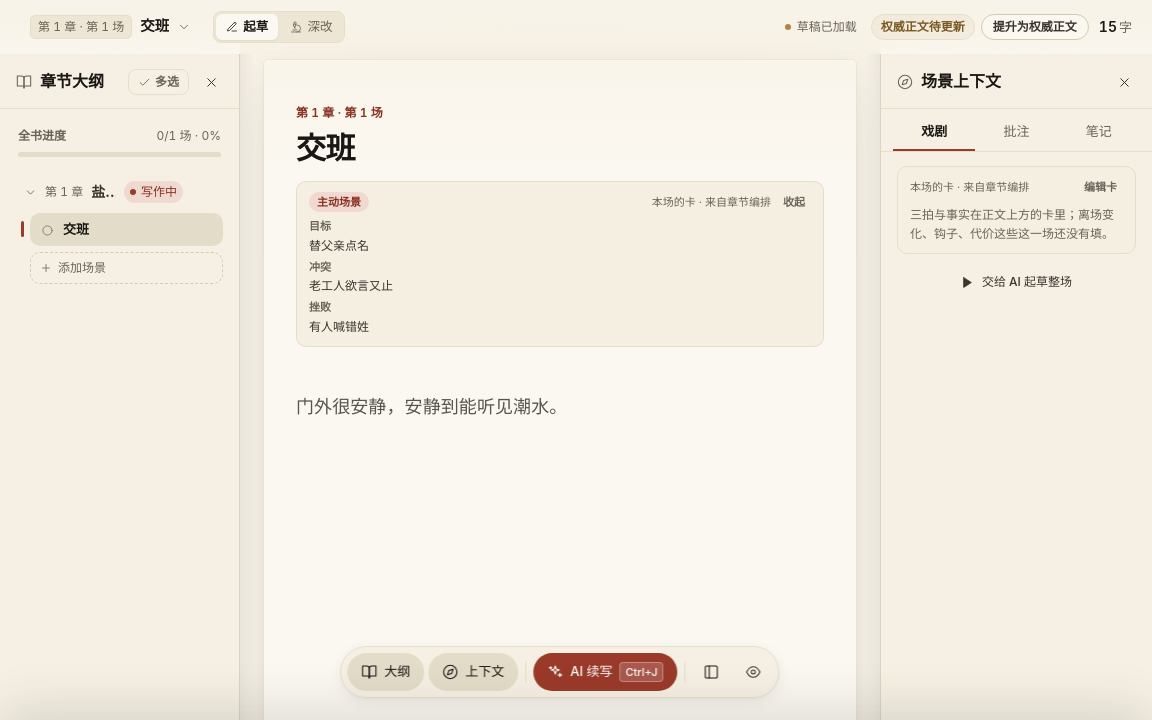
Test: 写作台 · 深改只诊断、不代笔 › 诊断来自服务端：进深改先取 GET deep-review，标注钉在那一句上；「选中去改」回到起草姿态并选中那一句；没有「采纳 · 写回正文」
Click the radio button labelled "深改".
click(311, 27)  # box [280,14,342,40]
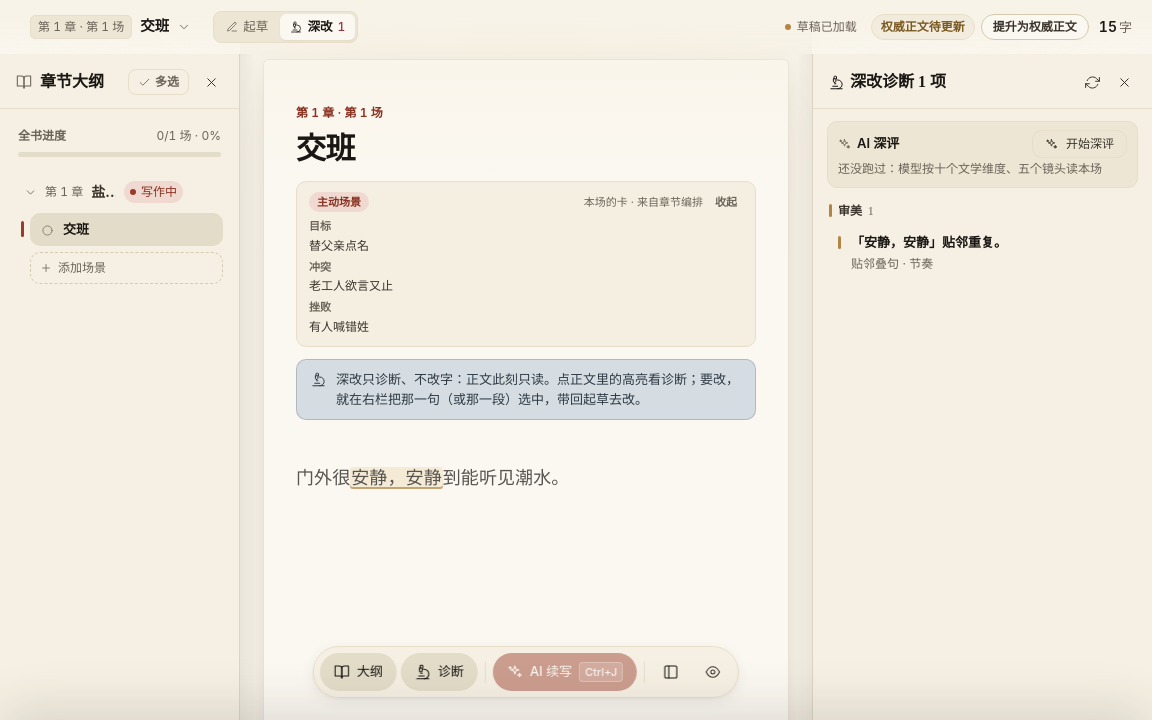
Now the element with class "wr-dxd" shows "贴邻重复"
Now the element with class "wr-dxd" shows "AI 深评", box [857,135,899,151]
Now the text "安静，安静" is shown, box [350,467,443,489]
Click the button with class "wr-dxd-row".
click(929, 242)  # box [828,225,1137,281]
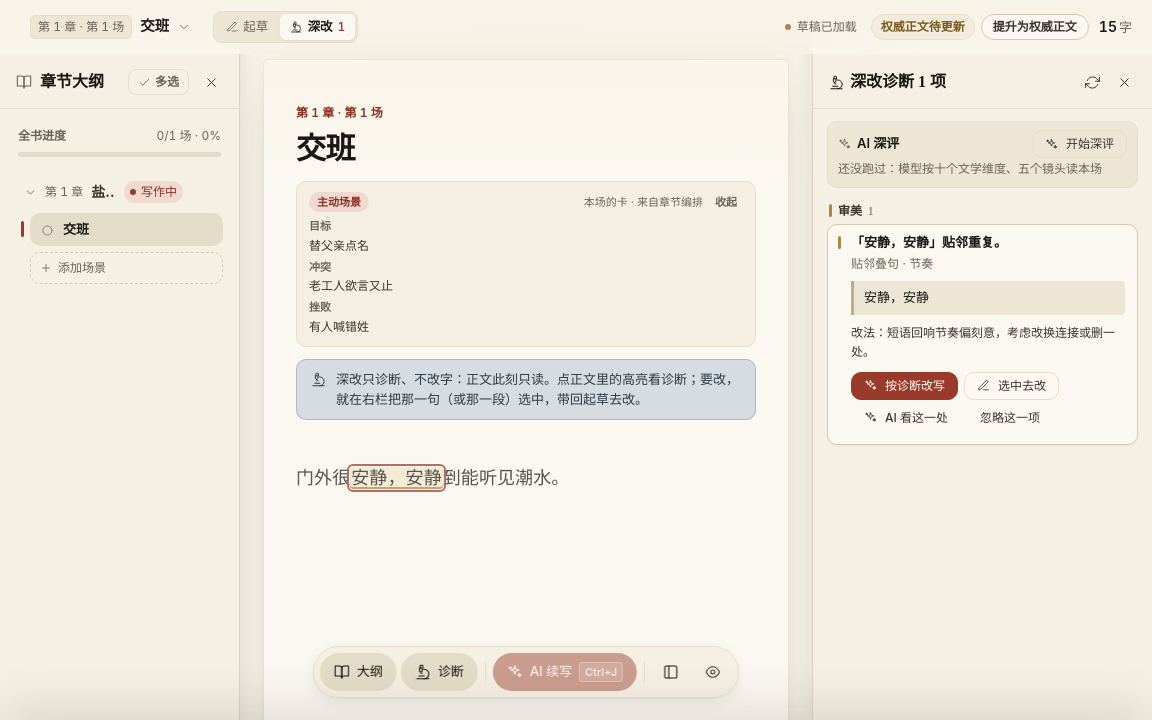
Click the button "选中去改".
click(1012, 386)  # box [964,372,1059,400]
Wait 120 ms
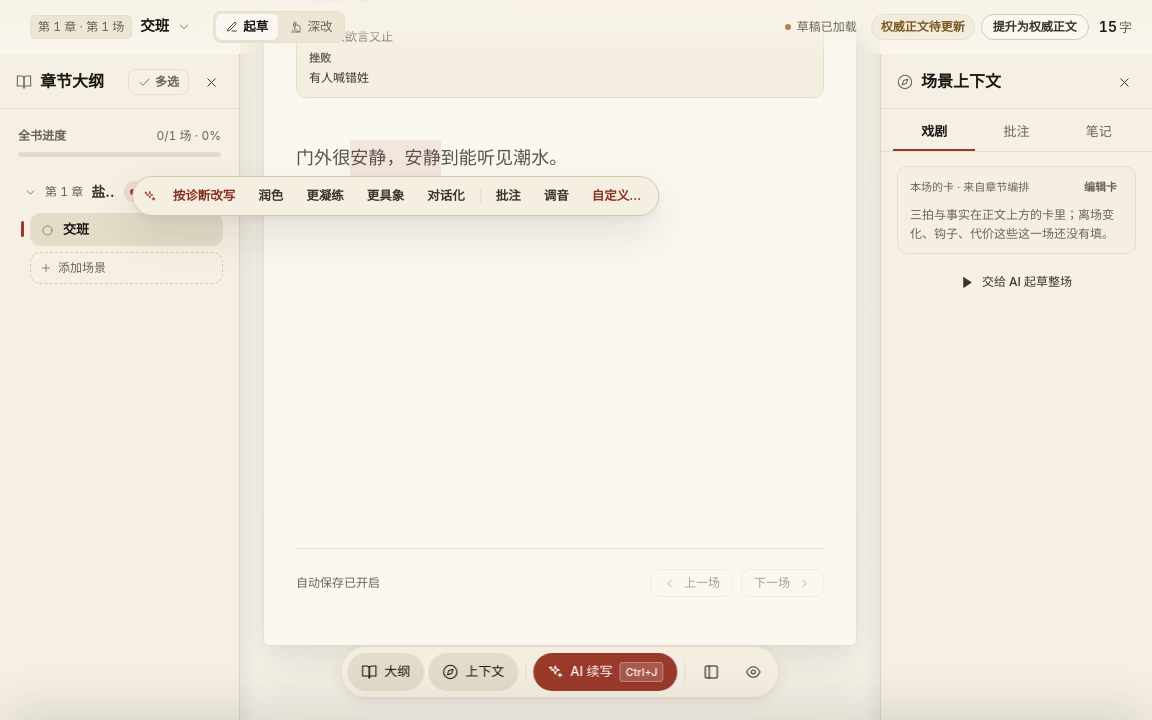
Now the text with class "wr-dx" is gone
